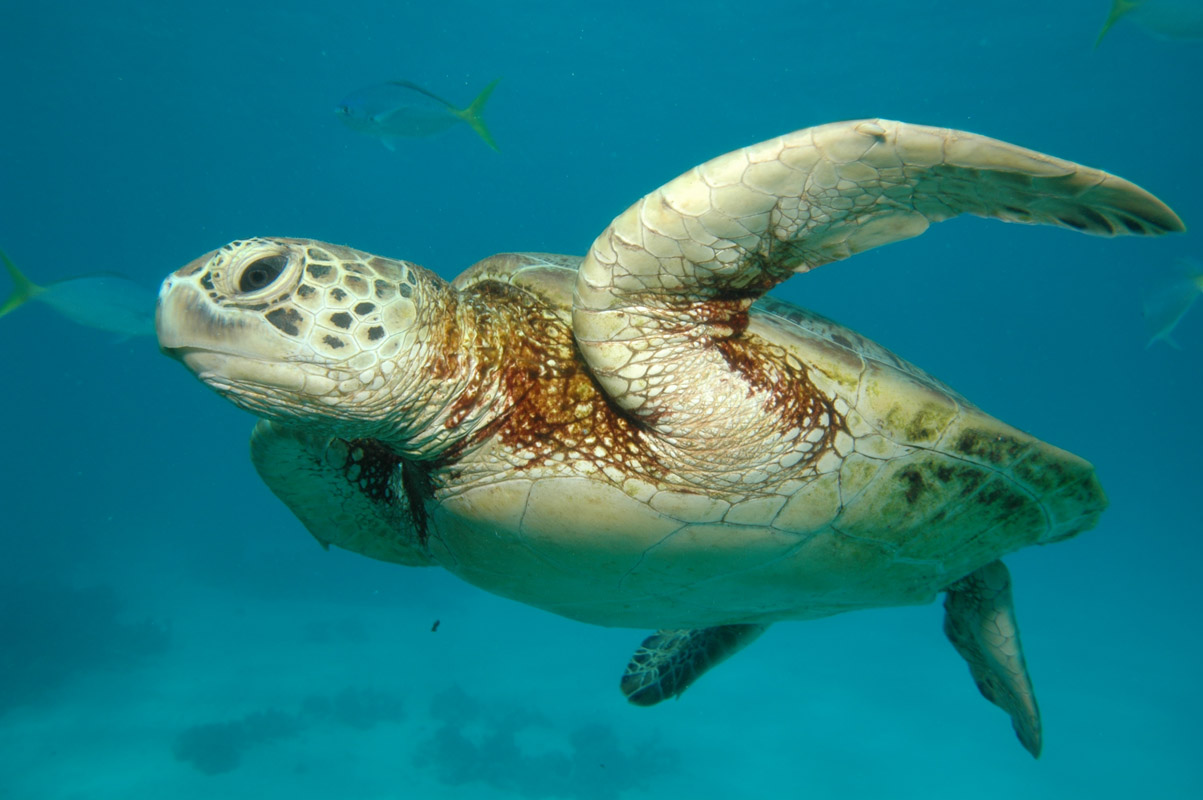eye: (228, 244, 304, 306)
mouth: (158, 332, 354, 395)
